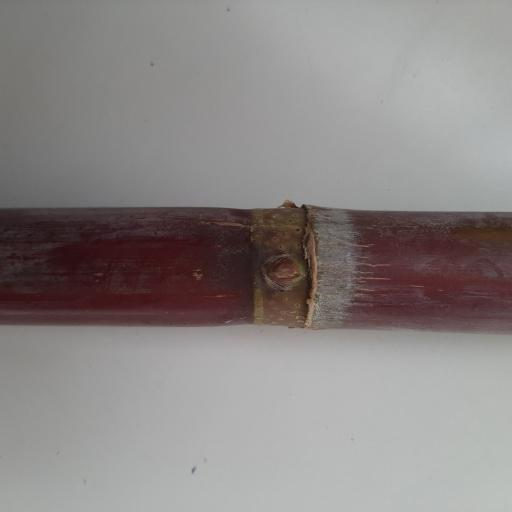Bud: (259, 249, 308, 290)
